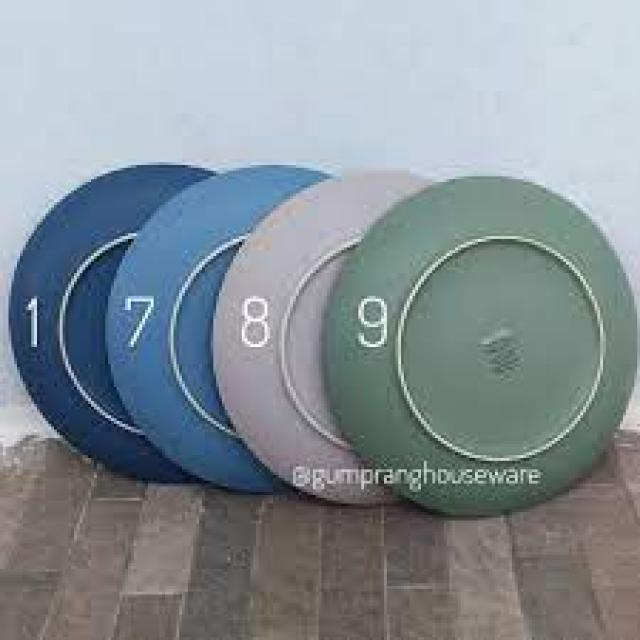Plate: (321, 165, 640, 526)
